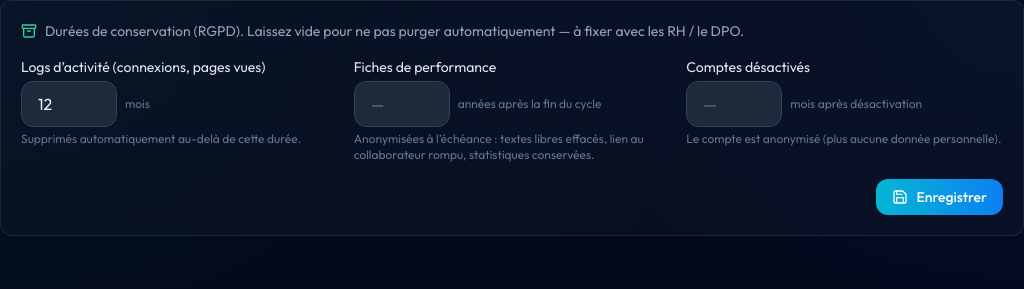
Test: RetentionSettingsPanel › enregistre les durées ; un champ vidé devient null
The width and height of the screenshot is (1024, 289).
Clear the number field labelled "Logs d’activité (connexions, pages vues)". click: (69, 104)
box: [21, 81, 117, 127]
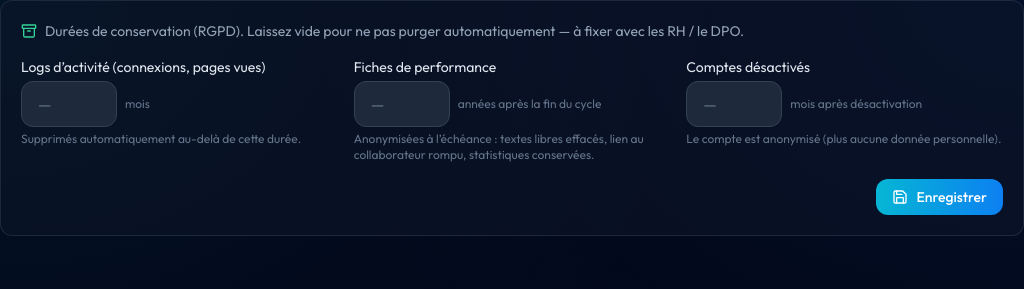
Type "5" into the number field labelled "Fiches de performance". click: (402, 104)
box: [354, 81, 450, 127]
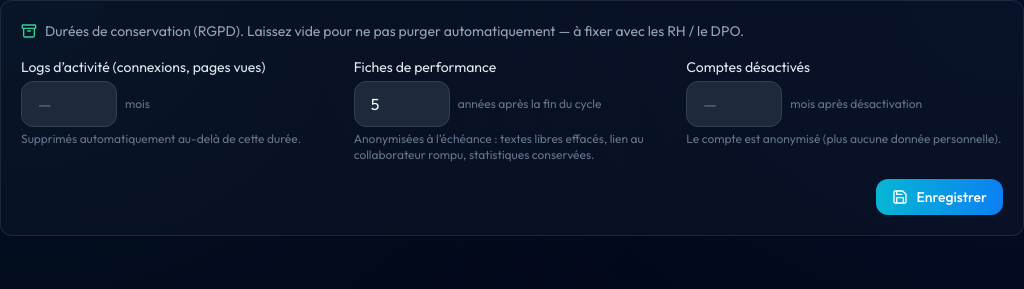
Click the button "Enregistrer". click: (940, 197)
box: [876, 179, 1003, 215]
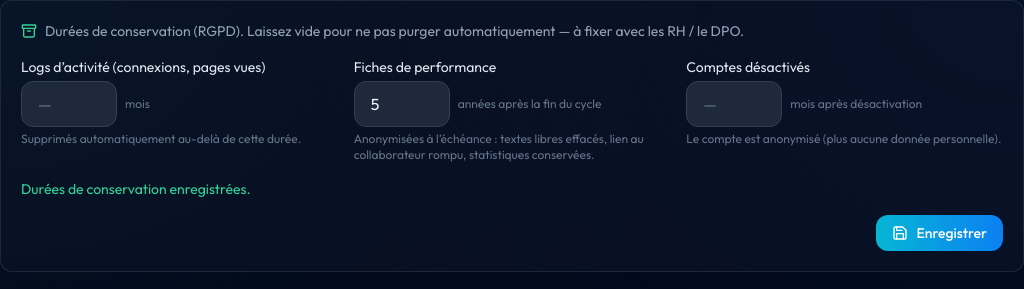
Now the text "Durées de conservation enregistrées." is shown, box [21, 180, 250, 198]
